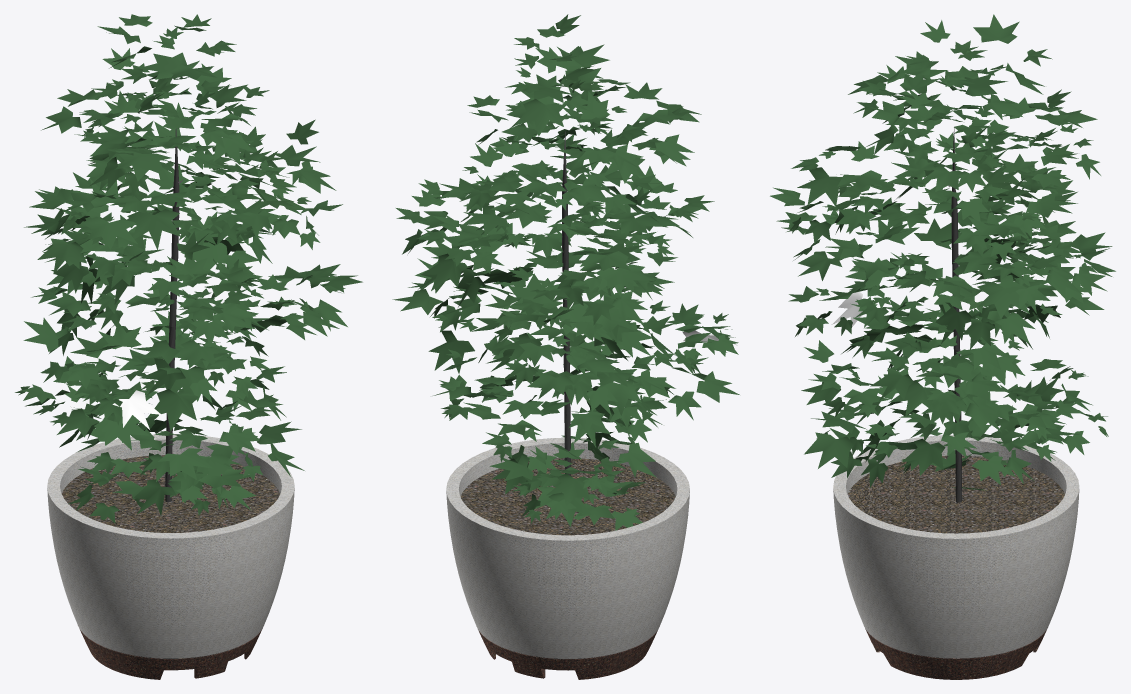
The model's file is Растение.fbx.
The picture shows the model from 3 angles, left to right: view 1: azimuth 30°, elevation 25°; view 2: azimuth 150°, elevation 25°; view 3: azimuth 270°, elevation 25°; orthographic projection.
Visible parts, largest first — view 1: Group1, Difference; view 2: Group1, Difference; view 3: Group1, Difference.
Part boxes in pixels (x1,y1,x2,y2): Group1: (15, 14, 362, 523); Difference: (47, 434, 294, 679); Group1: (392, 14, 739, 530); Difference: (446, 437, 689, 679); Group1: (770, 14, 1115, 502); Difference: (833, 435, 1079, 679).
Bounding box in the file's own units: 974 × 1793 × 903.
